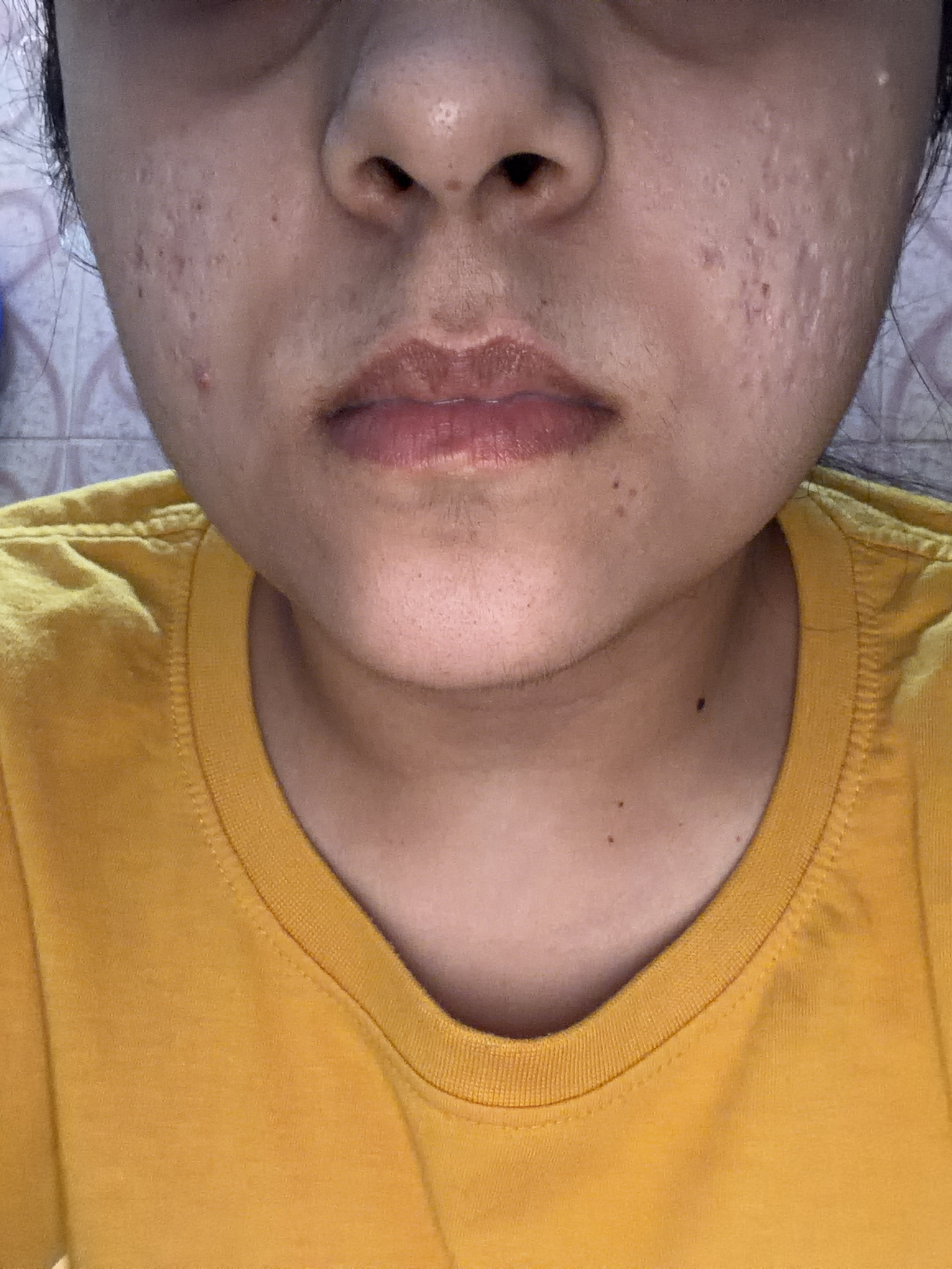papule: (190, 367, 214, 393)
